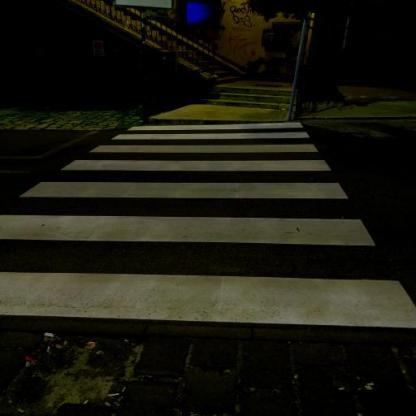crosswalk: (16, 157, 355, 209), (109, 122, 313, 140)
